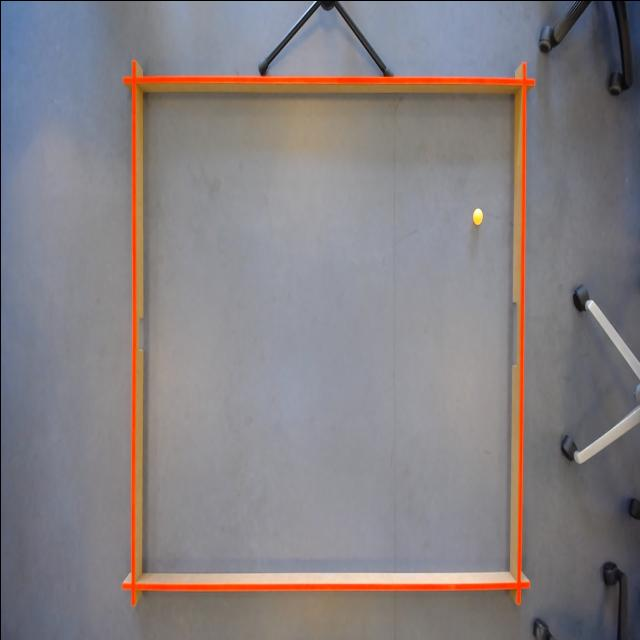orange_ball: (471, 204, 482, 225)
